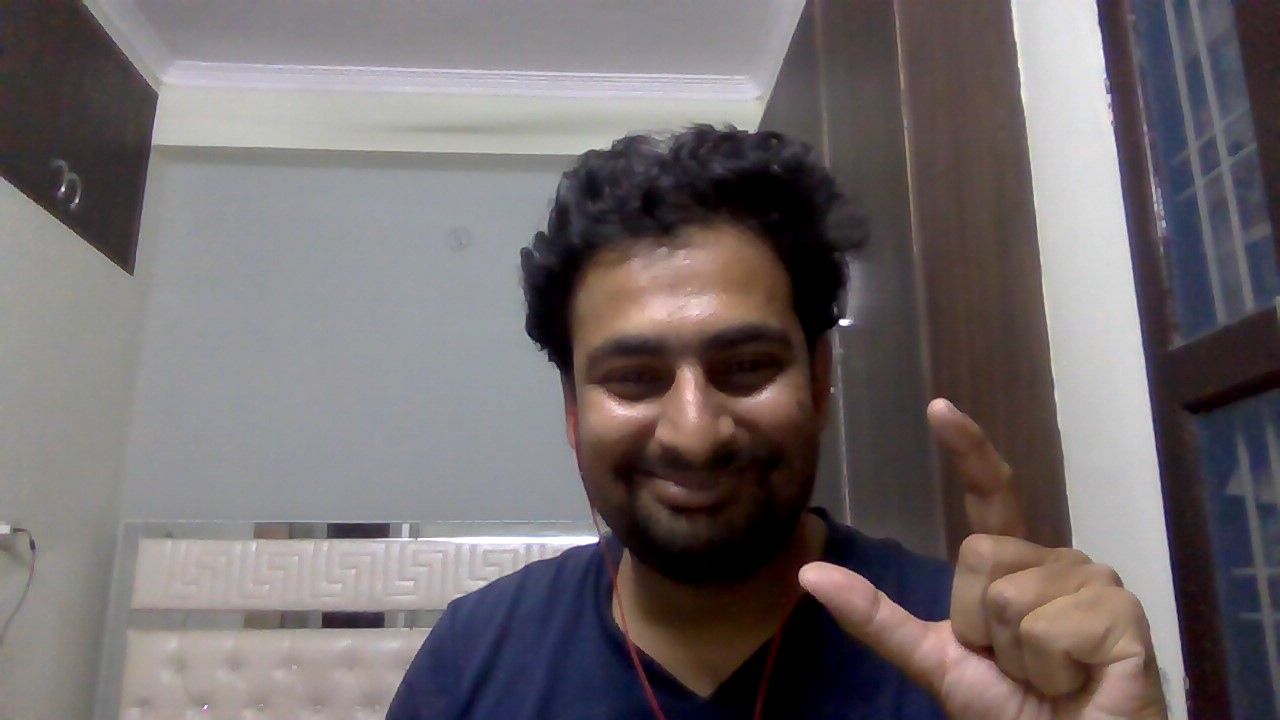Paste: (781, 390, 1218, 715)
